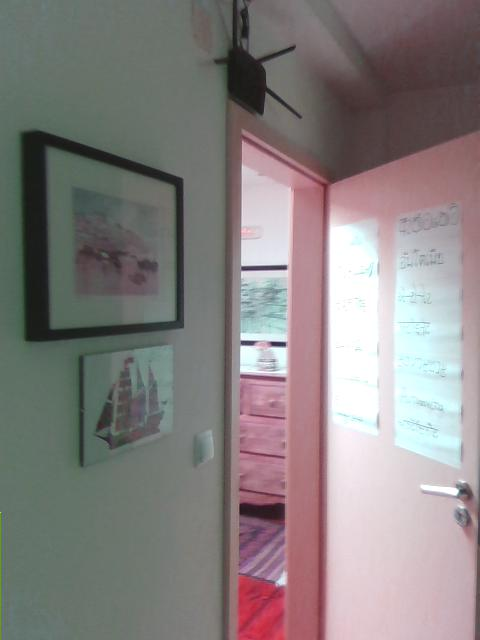semi_door: (221, 95, 479, 639)
